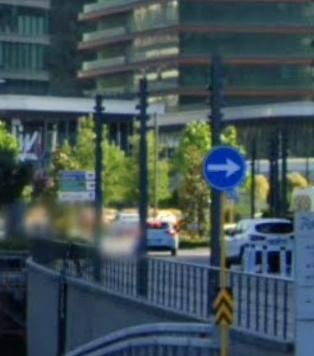turnright: (206, 147, 245, 187)
